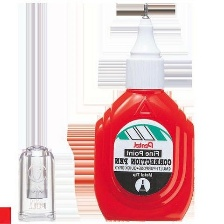correction_fluid: (90, 1, 196, 224)
